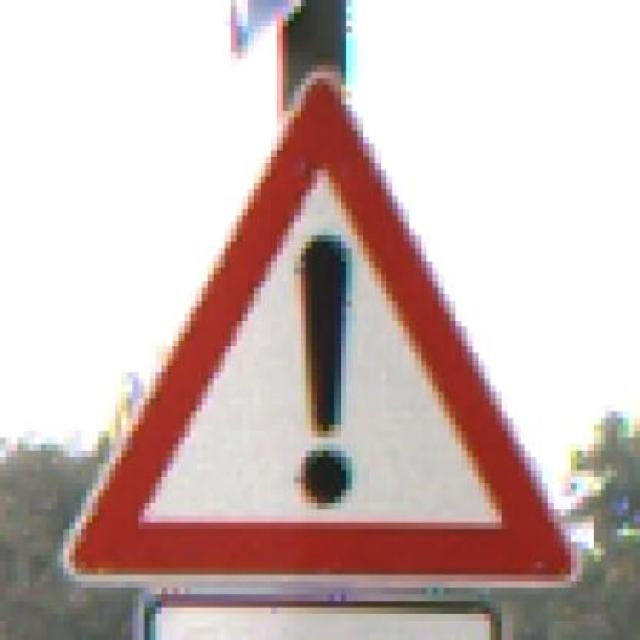Attention Please-: (48, 60, 586, 602)
